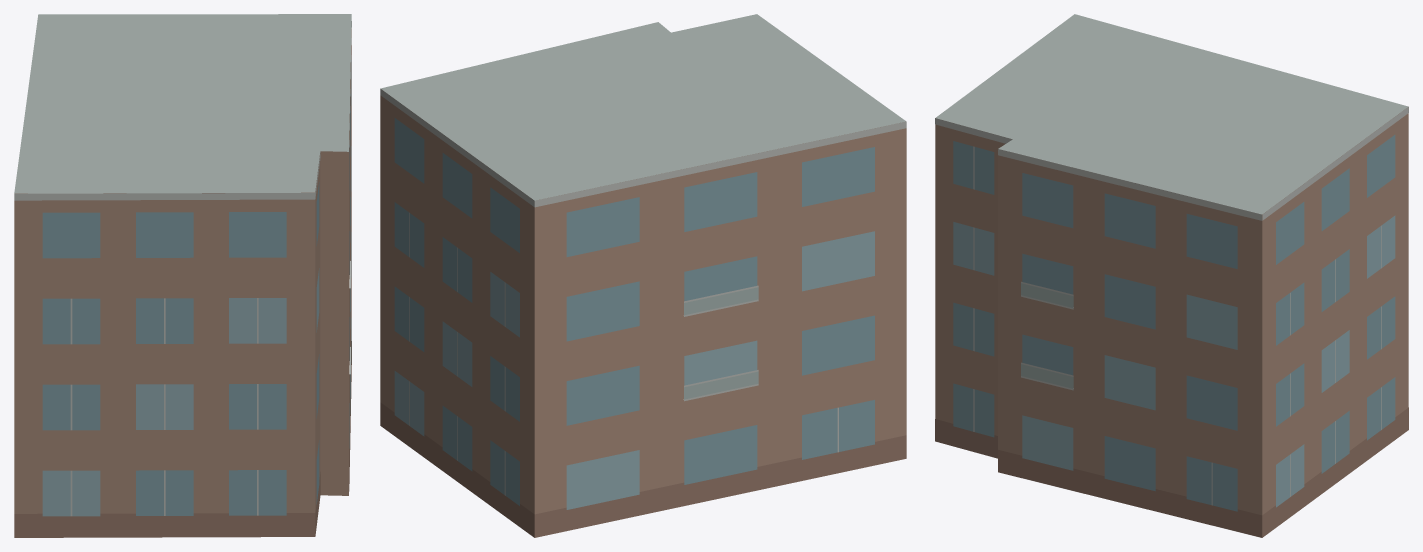
The model's file is survey-upis-32777619.glb.
3 views of the same model, side by side, from view 1: azimuth 30°, elevation 25°; view 2: azimuth 150°, elevation 25°; view 3: azimuth 270°, elevation 25° (orthographic). The views are drawn at different scales.
Visible parts, largest first — view 1: survey-upis-32777619.tmp; view 2: survey-upis-32777619.tmp; view 3: survey-upis-32777619.tmp.
Boxes of the visible parts, bbox=[...] form: survey-upis-32777619.tmp: bbox=[14, 14, 351, 537]; survey-upis-32777619.tmp: bbox=[380, 14, 906, 537]; survey-upis-32777619.tmp: bbox=[935, 14, 1408, 537].
Size of the model in its own units: 16.37 by 12.3 by 16.33.
